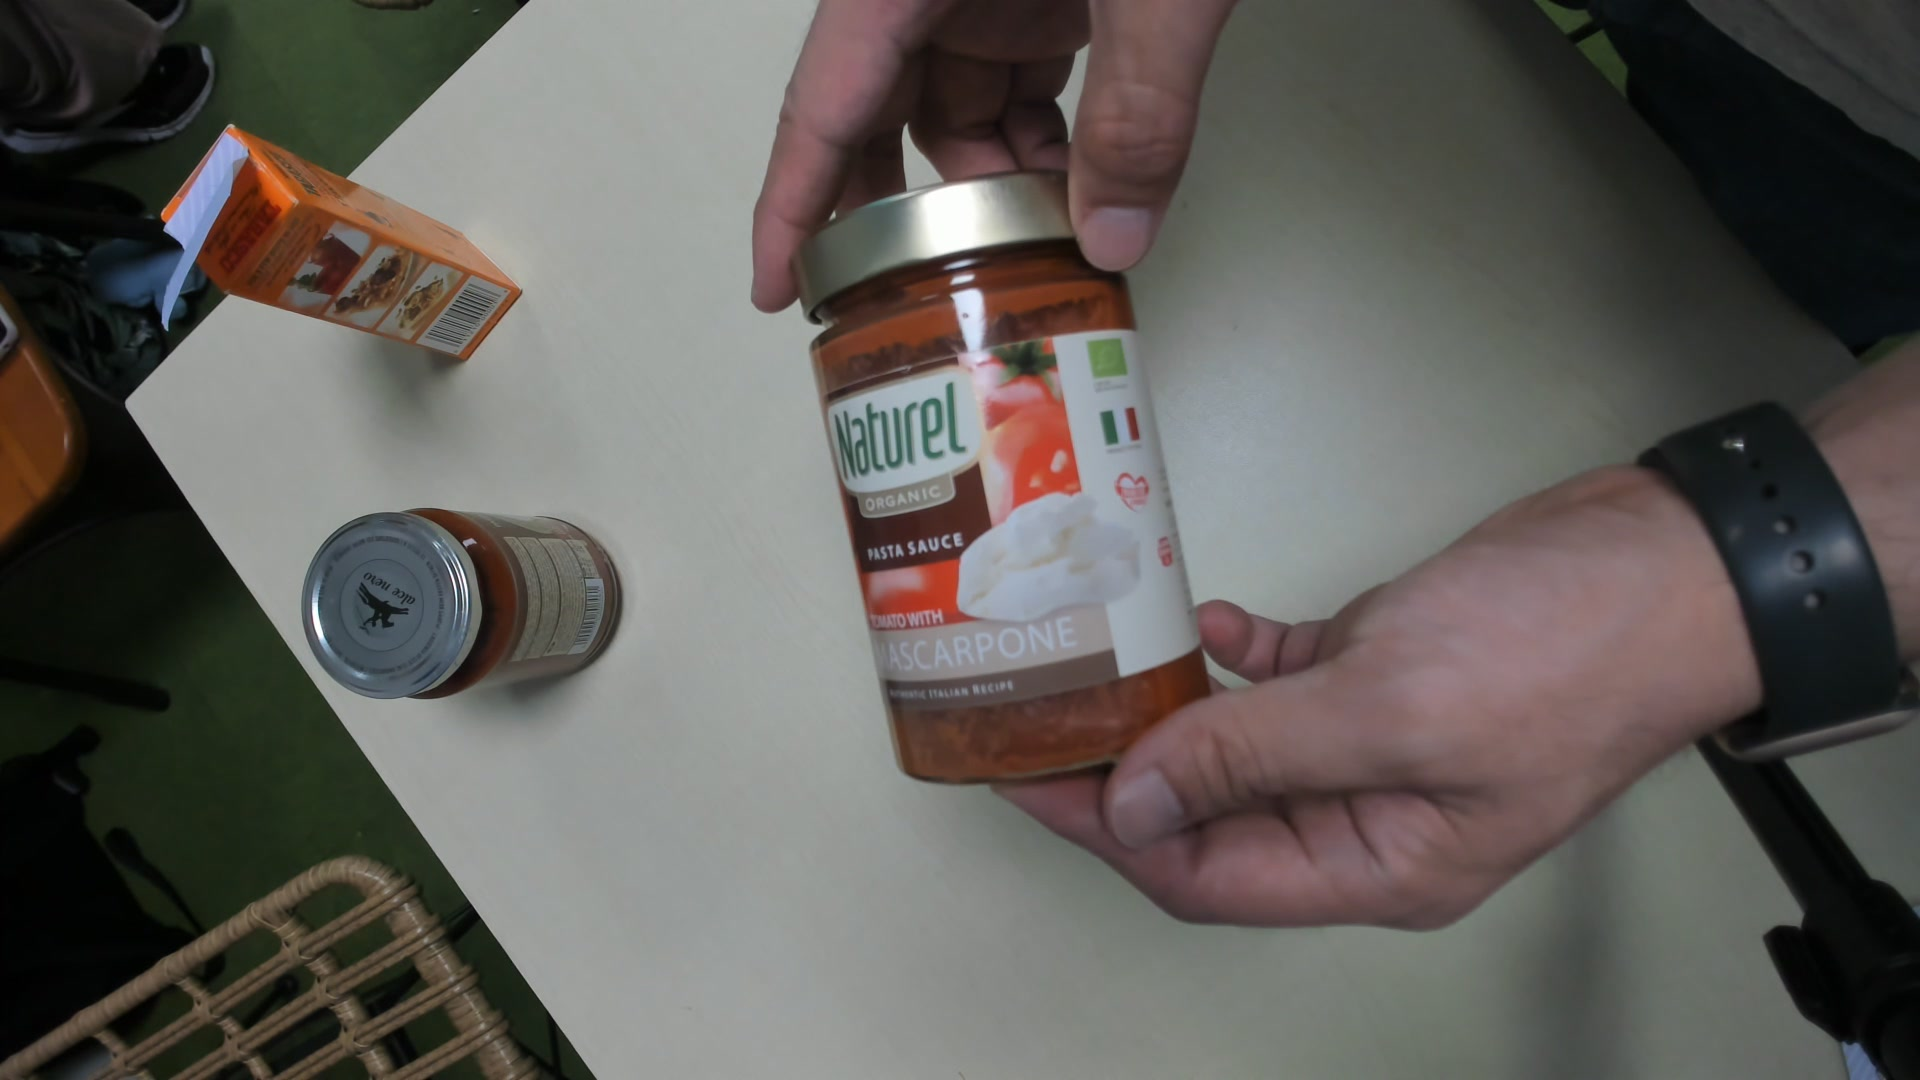PastaSauce_300-399g_NonHalal_NonHealthy: (785, 169, 1209, 787)
